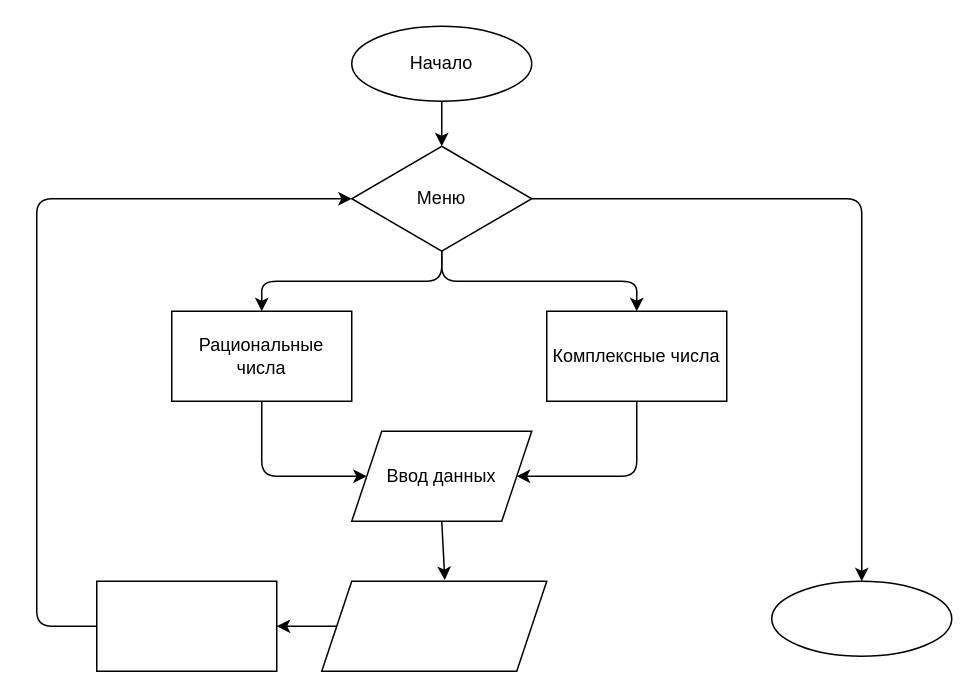
Some shapes in this 978 by 698 pixel diagram are drawn without their labels. Each missing label, with the centre of its shape:
"Вывод результата" belongs at point 433,625.
"Конец" belongs at point 861,618.
"Логирование" belongs at point 186,625.
